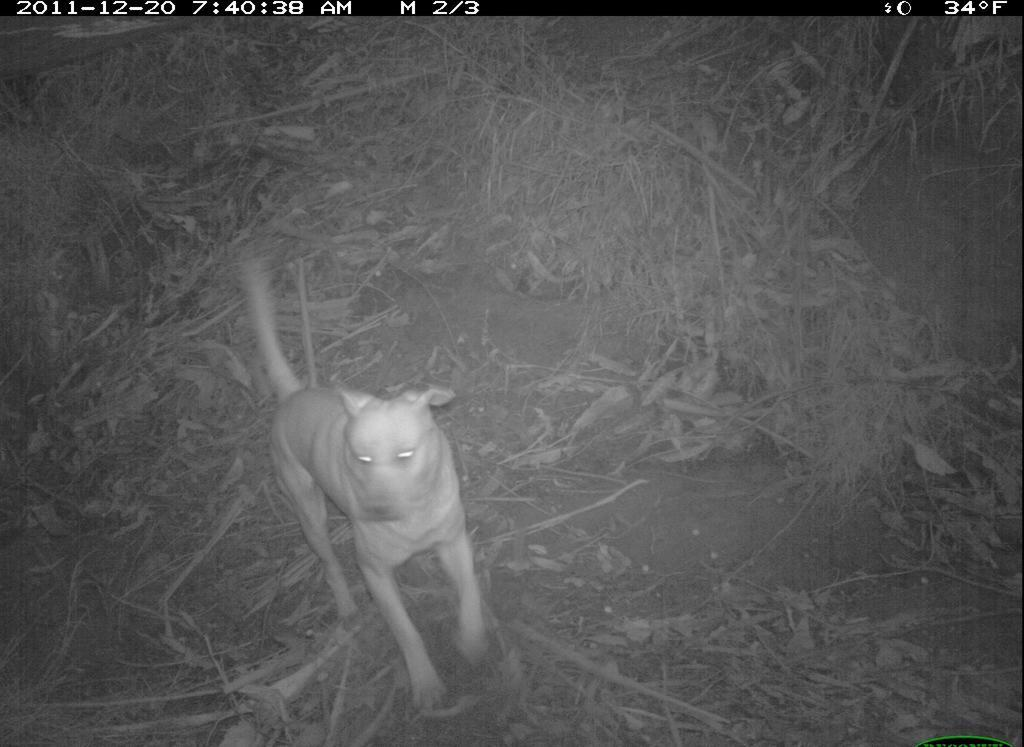dog: (231, 259, 497, 710)
